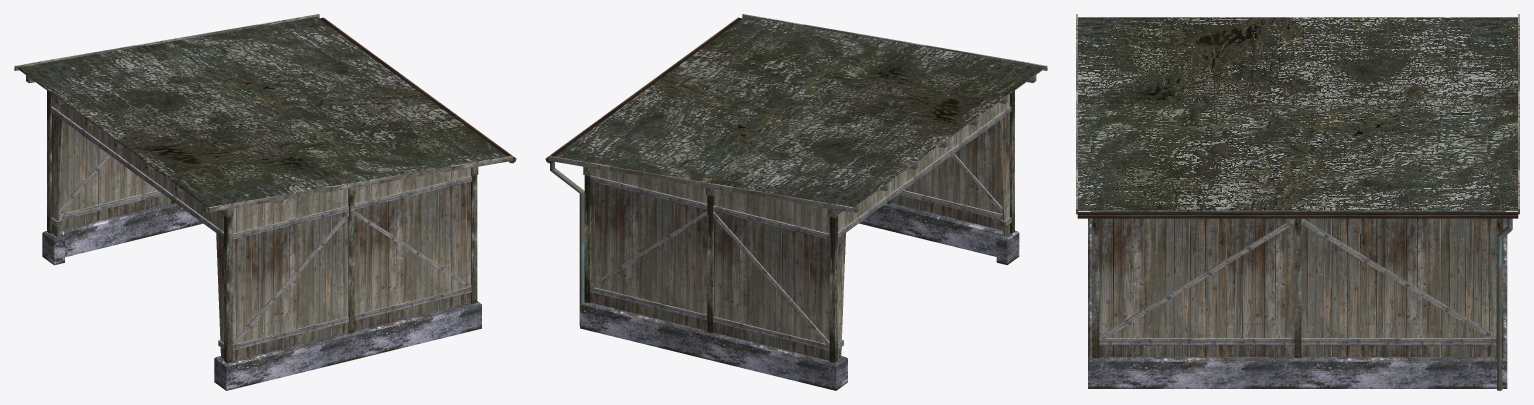
The model's file is wood_garage.FBX.
The picture shows the model from 3 angles, left to right: view 1: azimuth 30°, elevation 25°; view 2: azimuth 150°, elevation 25°; view 3: azimuth 270°, elevation 25°; orthographic projection. The views are drawn at different scales.
Parts seen in each view (by area): view 1: wood_garage; view 2: wood_garage; view 3: wood_garage.
Boxes of the visible parts, x1=… form: wood_garage: x1=14, y1=14, x2=516, y2=390; wood_garage: x1=545, y1=14, x2=1047, y2=390; wood_garage: x1=1076, y1=14, x2=1519, y2=390.
Bounding box in the file's own units: 101 × 110 × 59.99.
